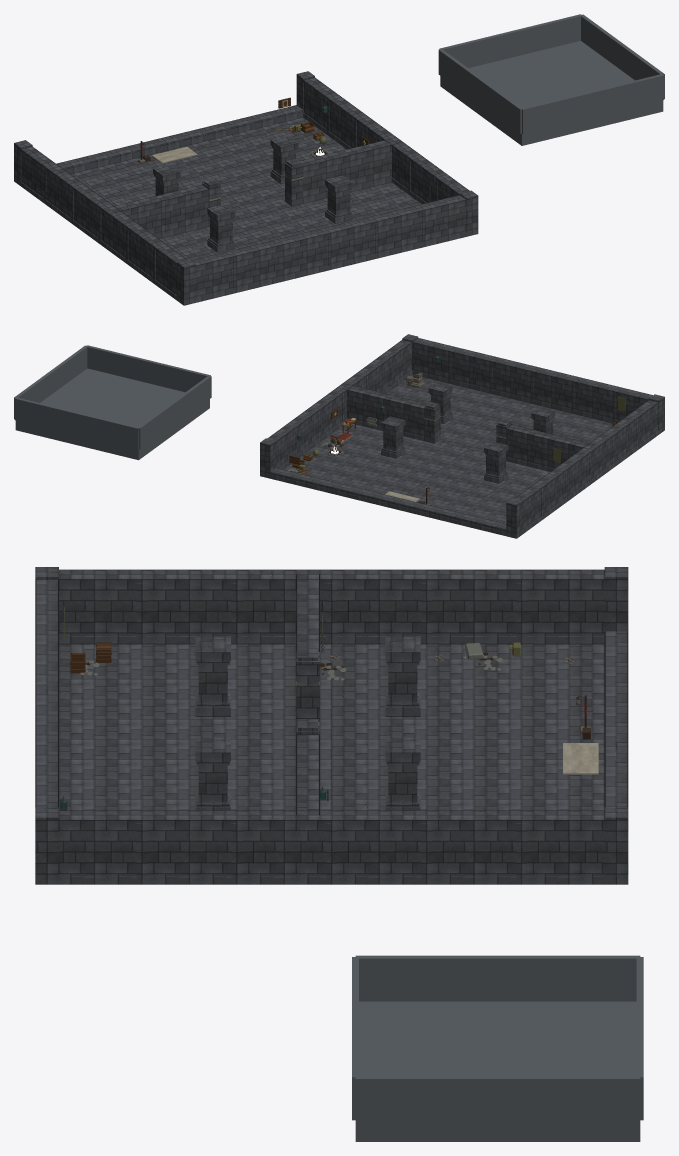
File: dungeon-expedition.glb
3 renders of one model, top to bottom at view 1: azimuth 30°, elevation 25°; view 2: azimuth 150°, elevation 25°; view 3: azimuth 270°, elevation 25°, orthographic. The views are drawn at different scales.
Visible parts, largest first — view 1: North Wall, Regroup Boundary (×4), Safe Regroup Platform, East Wall, West Wall, West Partition, Pillar (×4), East Partition, South Boundary, WL_expedition_Expedition_10, WL_expedition_Expedition_11, WL_expedition_Expedition_12 (+9 smaller); view 2: Regroup Boundary (×4), North Wall, Safe Regroup Platform, East Wall, West Wall, West Partition, South Boundary, Pillar (×4), East Partition, WL_expedition_Expedition_11, WL_expedition_Expedition_21, WL_expedition_Expedition_13 (+11 smaller); view 3: West Wall, East Wall, Regroup Boundary (×4), Safe Regroup Platform, Pillar (×4), WL_expedition_Expedition_21, WL_expedition_Expedition_23, WL_expedition_Expedition_30, WL_expedition_Expedition_20, WL_expedition_Expedition_22, WL_expedition_Expedition_13, WL_expedition_Expedition_33 (+12 smaller).
Boxes of the visible parts, x1,y1,x2,y2 form: North Wall: [190, 195, 472, 304]; Regroup Boundary (×4): [438, 14, 664, 134]; Safe Regroup Platform: [440, 41, 663, 145]; East Wall: [17, 146, 186, 302]; West Wall: [303, 77, 469, 203]; West Partition: [285, 138, 397, 206]; Pillar (×4): [153, 135, 352, 252]; East Partition: [109, 179, 220, 238]; South Boundary: [56, 105, 303, 174]; WL_expedition_Expedition_10: [168, 132, 273, 176]; WL_expedition_Expedition_11: [204, 159, 284, 207]; WL_expedition_Expedition_12: [246, 198, 359, 236]; Regroup Boundary (×4): [14, 345, 211, 449]; North Wall: [412, 338, 652, 423]; Safe Regroup Platform: [15, 368, 209, 460]; East Wall: [514, 400, 661, 535]; West Wall: [267, 339, 412, 469]; West Partition: [342, 384, 440, 443]; South Boundary: [265, 468, 511, 537]; Pillar (×4): [381, 381, 555, 483]; East Partition: [496, 419, 593, 471]; WL_expedition_Expedition_11: [361, 439, 461, 480]; WL_expedition_Expedition_21: [425, 453, 525, 495]; WL_expedition_Expedition_13: [450, 387, 529, 424]; West Wall: [47, 810, 616, 884]; East Wall: [59, 569, 616, 644]; Regroup Boundary (×4): [352, 955, 643, 1121]; Safe Regroup Platform: [355, 1001, 640, 1141]; Pillar (×4): [195, 637, 420, 810]; WL_expedition_Expedition_21: [331, 696, 479, 759]; WL_expedition_Expedition_23: [59, 696, 183, 759]; WL_expedition_Expedition_30: [480, 567, 628, 696]; WL_expedition_Expedition_20: [480, 696, 604, 759]; WL_expedition_Expedition_22: [183, 696, 331, 759]; WL_expedition_Expedition_13: [59, 759, 183, 810]; WL_expedition_Expedition_33: [35, 567, 183, 696].
Size of the model in its own units: 48.65 by 4.3 by 25.65.
23 materials, 12 textured.
